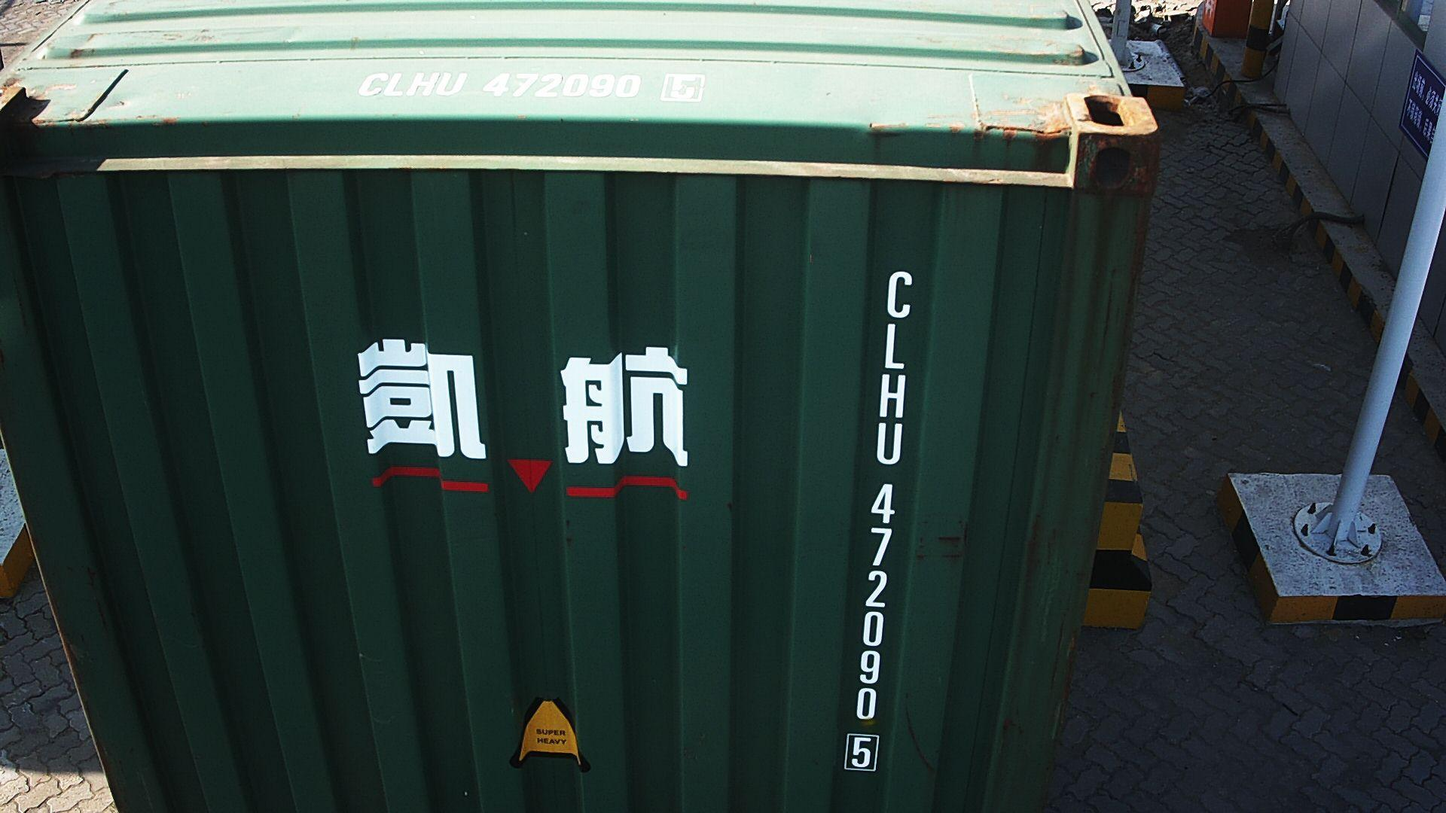container-numbers: (834, 264, 917, 780), (343, 68, 714, 106)
